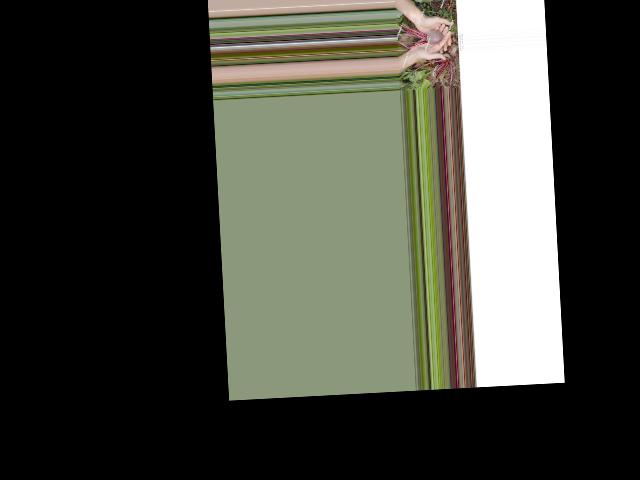beet: (397, 20, 444, 50)
